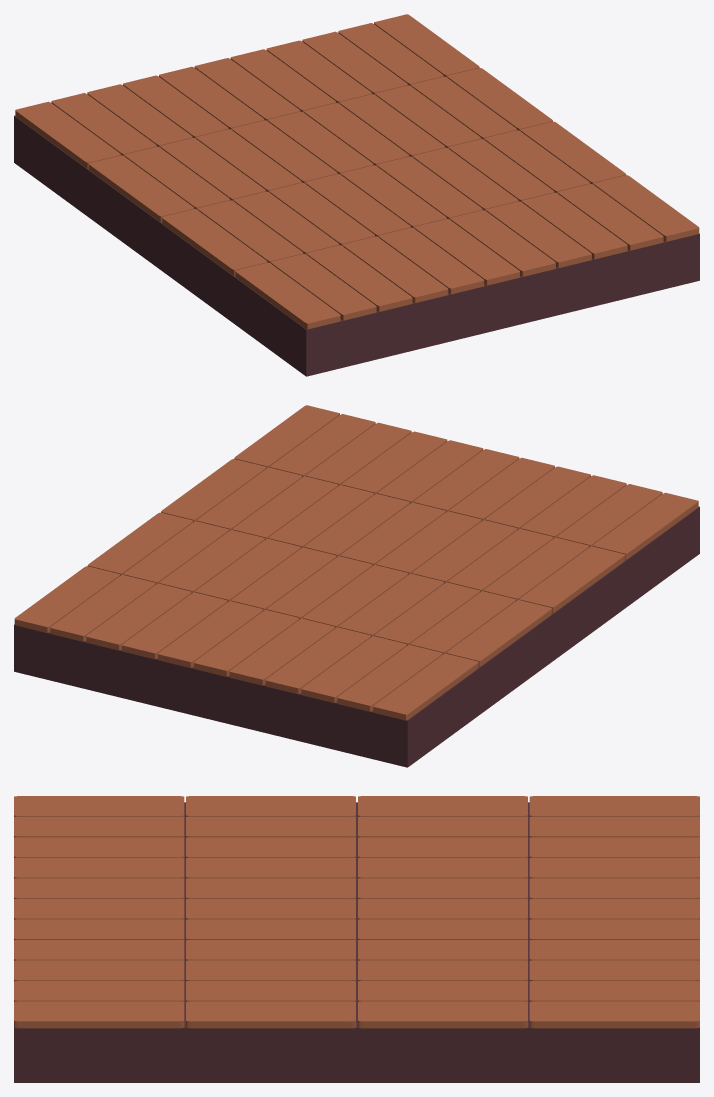
Rendered from chao-pequeno.fbx.
3 views of the same model, one above another, from view 1: azimuth 30°, elevation 25°; view 2: azimuth 150°, elevation 25°; view 3: azimuth 270°, elevation 25° (orthographic). The views are drawn at different scales.
Visible parts, largest first — view 1: Cube.037; view 2: Cube.037; view 3: Cube.037.
Part boxes in pixels (x1,y1,x2,y2): Cube.037: (14,14,699,376); Cube.037: (14,405,699,767); Cube.037: (14,796,699,1082).
Bounding box in the file's own units: 467 × 59.62 × 600.
